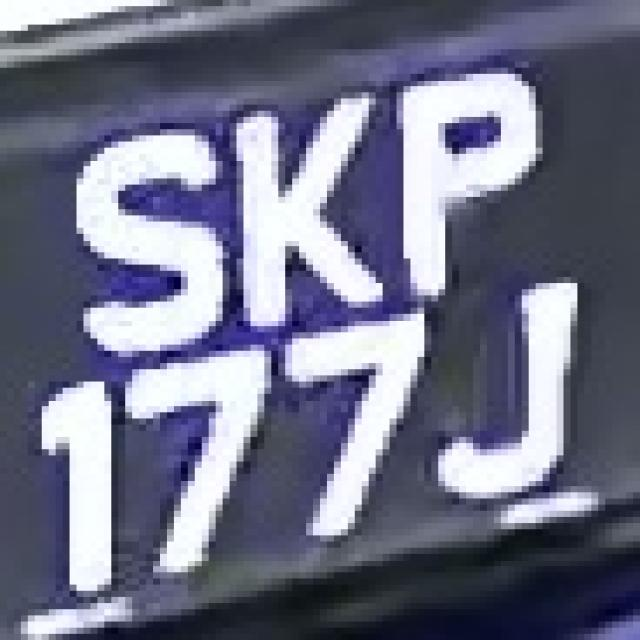1: (35, 345, 118, 609)
7: (244, 289, 432, 566), (90, 344, 258, 584)
J: (452, 289, 612, 523)
K: (208, 80, 362, 332)
P: (362, 74, 556, 308)
S: (34, 104, 222, 350)
